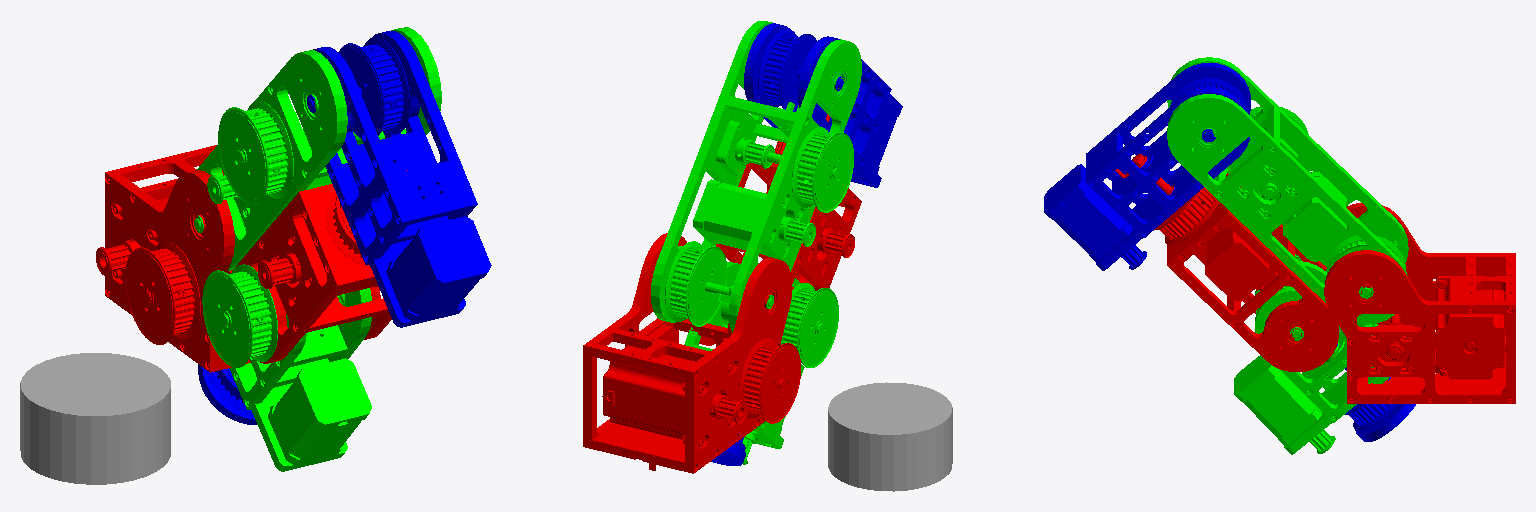
The robot description file, URDF, robot "sixrobot":
<?xml version="1.0" ?>
<robot
  name="sixrobot">
  <link
    name="base_link">
    <inertial>
      <origin
        xyz="0.14555 0.062586 -0.15713"
        rpy="0 0 0" />
      <mass
        value="4.0022" />
      <inertia
        ixx="0.012253"
        ixy="-2.6729E-06"
        ixz="2.0656E-06"
        iyy="0.0093348"
        iyz="0.0019878"
        izz="0.003386" />
    </inertial>
    <visual>
      <origin
        xyz="0 0 0"
        rpy="0 0 0" />
      <geometry>
        <mesh
          filename="package://sixrobot_description/meshes/base_link.stl" />
      </geometry>
      <material
        name="">
        <color
          rgba="245 245 245 1" />
      </material>
    </visual>
    <collision>
      <origin
        xyz="0 0 0"
        rpy="0 0 0" />
      <geometry>
        <mesh
          filename="package://sixrobot_description/meshes/base_link.stl" />
      </geometry>
    </collision>
  </link>
  <link
    name="Link1">
    <inertial>
      <origin
        xyz="0.014283 0.062229 -0.0073351"
        rpy="0 0 0" />
      <mass
        value="2.9711" />
      <inertia
        ixx="0.0030896"
        ixy="4.1872E-05"
        ixz="-0.0003107"
        iyy="0.004441"
        iyz="1.6622E-05"
        izz="0.0027928" />
    </inertial>
    <visual>
      <origin
        xyz="0 0 0"
        rpy="0 0 0" />
      <geometry>
        <mesh
          filename="package://sixrobot_description/meshes/Link1.stl" />
      </geometry>
      <material
        name="">
        <color
          rgba="255 0 0 1" />
      </material>
    </visual>
    <collision>
      <origin
        xyz="0 0 0"
        rpy="0 0 0" />
      <geometry>
        <mesh
          filename="package://sixrobot_description/meshes/Link1.stl" />
      </geometry>
    </collision>
  </link>
  <joint
    name="joint1"
    type="revolute">
    <origin
      xyz="0.14553 0.082167 0.0937"
      rpy="1.5708 1.2811E-08 1.5708" />
    <parent
      link="base_link" />
    <child
      link="Link1" />
    <axis
      xyz="0 1 0" />
    <limit
      lower="-1.57"
      upper="1.57"
      effort="0"
      velocity="0" />
  </joint>
  <link
    name="Link2">
    <inertial>
      <origin
        xyz="-0.081903 -6.2825E-05 -0.0062784"
        rpy="0 0 0" />
      <mass
        value="1.2043" />
      <inertia
        ixx="0.0012825"
        ixy="-4.0552E-06"
        ixz="-0.0004638"
        iyy="0.0034706"
        iyz="-3.3631E-06"
        izz="0.0022087" />
    </inertial>
    <visual>
      <origin
        xyz="0 0 0"
        rpy="0 0 0" />
      <geometry>
        <mesh
          filename="package://sixrobot_description/meshes/Link2.stl" />
      </geometry>
      <material
        name="">
        <color
          rgba="0 255 0 1" />
      </material>
    </visual>
    <collision>
      <origin
        xyz="0 0 0"
        rpy="0 0 0" />
      <geometry>
        <mesh
          filename="package://sixrobot_description/meshes/Link2.stl" />
      </geometry>
    </collision>
  </link>
  <joint
    name="joint2"
    type="revolute">
    <origin
      xyz="-0.053834 0.12 0"
      rpy="-4.996E-14 -1.6098E-13 -2.8449" />
    <parent
      link="Link1" />
    <child
      link="Link2" />
    <axis
      xyz="0 0 1" />
    <limit
      lower="0.296"
      upper="3.768"
      effort="0"
      velocity="0" />
  </joint>
  <link
    name="Link3">
    <inertial>
      <origin
        xyz="-0.0030891 0.053464 0.0015565"
        rpy="0 0 0" />
      <mass
        value="0.79833" />
      <inertia
        ixx="0.0019731"
        ixy="0.00011484"
        ixz="-4.1195E-06"
        iyy="0.00037597"
        iyz="6.6446E-05"
        izz="0.0019652" />
    </inertial>
    <visual>
      <origin
        xyz="0 0 0"
        rpy="0 0 0" />
      <geometry>
        <mesh
          filename="package://sixrobot_description/meshes/Link3.stl" />
      </geometry>
      <material
        name="">
        <color
          rgba="0 0 255 1" />
      </material>
    </visual>
    <collision>
      <origin
        xyz="0 0 0"
        rpy="0 0 0" />
      <geometry>
        <mesh
          filename="package://sixrobot_description/meshes/Link3.stl" />
      </geometry>
    </collision>
  </link>
  <joint
    name="joint3"
    type="revolute">
    <origin
      xyz="-0.19 0 0"
      rpy="-4.4409E-14 -1.4433E-13 -3.1416" />
    <parent
      link="Link2" />
    <child
      link="Link3" />
    <axis
      xyz="0 0 1" />
    <limit
      lower="-3.14"
      upper="0"
      effort="0"
      velocity="0" />
  </joint>
  <link
    name="Link4">
    <inertial>
      <origin
        xyz="-0.10243 0.00012682 -0.0034682"
        rpy="0 0 0" />
      <mass
        value="0.77257" />
      <inertia
        ixx="0.00045081"
        ixy="-4.7414E-06"
        ixz="-1.86E-05"
        iyy="0.0019073"
        iyz="-8.0337E-08"
        izz="0.0014729" />
    </inertial>
    <visual>
      <origin
        xyz="0 0 0"
        rpy="0 0 0" />
      <geometry>
        <mesh
          filename="package://sixrobot_description/meshes/Link4.stl" />
      </geometry>
      <material
        name="">
        <color
          rgba="255 0 0 1" />
      </material>
    </visual>
    <collision>
      <origin
        xyz="0 0 0"
        rpy="0 0 0" />
      <geometry>
        <mesh
          filename="package://sixrobot_description/meshes/Link4.stl" />
      </geometry>
    </collision>
  </link>
  <joint
    name="joint4"
    type="revolute">
    <origin
      xyz="0 0.072 0"
      rpy="-8.3267E-15 1.0547E-13 6.4893E-14" />
    <parent
      link="Link3" />
    <child
      link="Link4" />
    <axis
      xyz="-1 0 0" />
    <limit
      lower="-1.5708"
      upper="1.5708"
      effort="0"
      velocity="0" />
  </joint>
  <link
    name="Link5">
    <inertial>
      <origin
        xyz="-0.03177 0.012539 -0.0082766"
        rpy="0 0 0" />
      <mass
        value="0.7621" />
      <inertia
        ixx="0.00088662"
        ixy="0.00027254"
        ixz="0.00023505"
        iyy="0.0011014"
        iyz="-0.00012409"
        izz="0.0010153" />
    </inertial>
    <visual>
      <origin
        xyz="0 0 0"
        rpy="0 0 0" />
      <geometry>
        <mesh
          filename="package://sixrobot_description/meshes/Link5.stl" />
      </geometry>
      <material
        name="">
        <color
          rgba="0 255 0 1" />
      </material>
    </visual>
    <collision>
      <origin
        xyz="0 0 0"
        rpy="0 0 0" />
      <geometry>
        <mesh
          filename="package://sixrobot_description/meshes/Link5.stl" />
      </geometry>
    </collision>
  </link>
  <joint
    name="joint5"
    type="revolute">
    <origin
      xyz="-0.182 0 0"
      rpy="0.06337 -0.083358 -0.060704" />
    <parent
      link="Link4" />
    <child
      link="Link5" />
    <axis
      xyz="0.083262 0.063107 0.99453" />
    <limit
      lower="-0.69"
      upper="1.57"
      effort="0"
      velocity="0" />
  </joint>
  <link
    name="Link6">
    <inertial>
      <origin
        xyz="4.8525E-06 -0.00027138 0.054503"
        rpy="0 0 0" />
      <mass
        value="0.28753" />
      <inertia
        ixx="5.4771E-05"
        ixy="2.9237E-08"
        ixz="4.993E-09"
        iyy="5.4752E-05"
        iyz="4.997E-08"
        izz="3.9349E-06" />
    </inertial>
    <visual>
      <origin
        xyz="0 0 0"
        rpy="0 0 0" />
      <geometry>
        <mesh
          filename="package://sixrobot_description/meshes/Link6.stl" />
      </geometry>
      <material
        name="">
        <color
          rgba="0 0 255 1" />
      </material>
    </visual>
    <collision>
      <origin
        xyz="0 0 0"
        rpy="0 0 0" />
      <geometry>
        <mesh
          filename="package://sixrobot_description/meshes/Link6.stl" />
      </geometry>
    </collision>
  </link>
  <joint
    name="joint6"
    type="revolute">
    <origin
      xyz="-0.046785 -0.001336 0.0040016"
      rpy="-0.61742 -1.4661 0.64856" />
    <parent
      link="Link5" />
    <child
      link="Link6" />
    <axis
      xyz="0 0 1" />
    <limit
      lower="-1.5708"
      upper="1.5708"
      effort="0"
      velocity="0" />
  </joint>

    <link name="laser_link">
		<visual>
			<origin xyz=" 0 0 0 " rpy="0 0 0" />
			<geometry>
				<cylinder length="0.05" radius="0.05"/>
			</geometry>
			<material name="black"/>
		</visual>
    </link>

    <joint name="laser_joint" type="fixed">
        <origin xyz="0 0 0.105" rpy="0 0 0"/>
        <parent link="base_link"/>
        <child link="laser_link"/>
    </joint>

</robot>

--- Facts derived from the render (not from the file) ---
3 views of the same robot in one strip: view 1: azimuth 30°, elevation 25°; view 2: azimuth 150°, elevation 25°; view 3: azimuth 270°, elevation 25° (orthographic).
Model sixrobot with 8 links and 7 joints (6 revolute, 1 fixed), rooted at base_link, posed joints at zero except 1 at the middle of their limits (joint2 = 2.03).
Visible links, largest first — view 1: Link3, Link1, Link5, Link2, laser_link, Link4, Link6; view 2: Link2, Link1, laser_link, Link3, Link5, Link4, Link6; view 3: Link1, Link2, Link3, Link4, Link5, Link6.
Boxes of the visible links, x1,y1,x2,y2 form: Link3: (307,31,491,327); Link1: (96,145,250,372); Link5: (202,264,371,471); Link2: (194,27,441,270); laser_link: (20,353,170,484); Link4: (236,170,407,363); Link6: (198,364,256,424); Link2: (651,21,861,332); Link1: (583,233,800,473); laser_link: (828,382,952,491); Link3: (744,23,902,187); Link5: (684,262,838,464); Link4: (699,114,861,345); Link6: (711,437,745,465); Link1: (1324,203,1515,403); Link2: (1167,57,1408,324); Link3: (1044,63,1250,270); Link4: (1115,154,1338,371); Link5: (1234,254,1389,454); Link6: (1337,344,1415,441).
Size in the robot's own frame: 0.2477 by 0.3911 by 0.344 metres.
Meshes: 7 distinct files referenced, 6 mesh visuals loaded (6 binary STL); not drawn: 1 (reference not matched to a file when rendering).